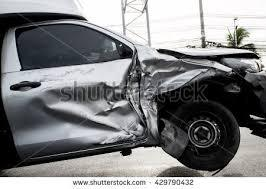Bonnet: (143, 45, 266, 58)
Bumper: (223, 70, 266, 138)
Door: (0, 58, 150, 158)
Fender: (136, 54, 250, 147)
